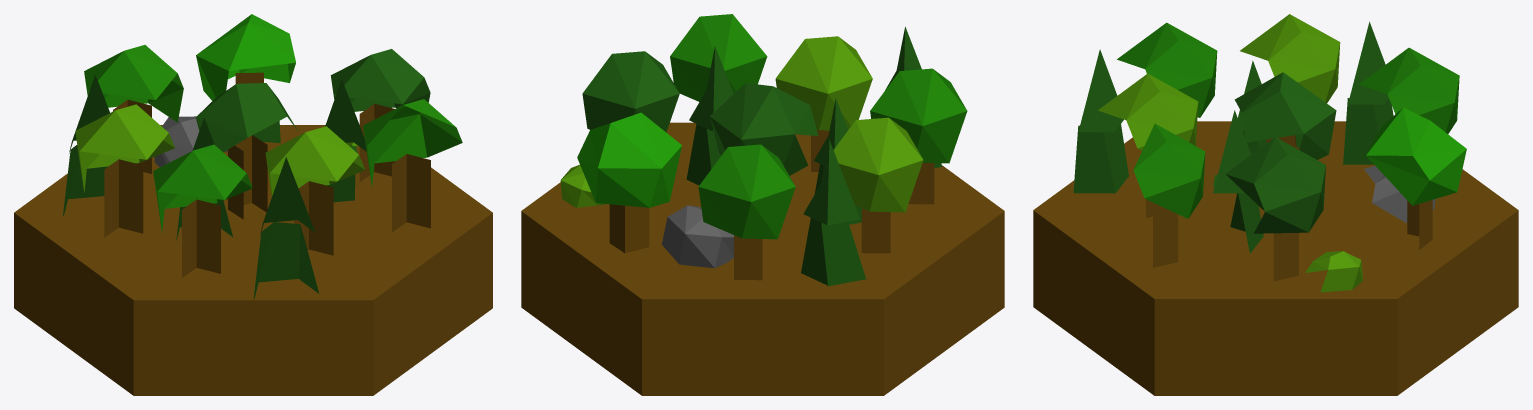
The model's file is Wood1.fbx.
The picture shows the model from 3 angles, left to right: view 1: azimuth 30°, elevation 25°; view 2: azimuth 150°, elevation 25°; view 3: azimuth 270°, elevation 25°; orthographic projection.
Parts seen in each view (by area): view 1: Cylinder; view 2: Cylinder; view 3: Cylinder.
Part boxes in pixels (x1=…): Cylinder: x1=14, y1=14, x2=492, y2=395; Cylinder: x1=521, y1=14, x2=1004, y2=395; Cylinder: x1=1033, y1=14, x2=1518, y2=395.
Size of the model in its own units: 1.73 by 1.05 by 2.
